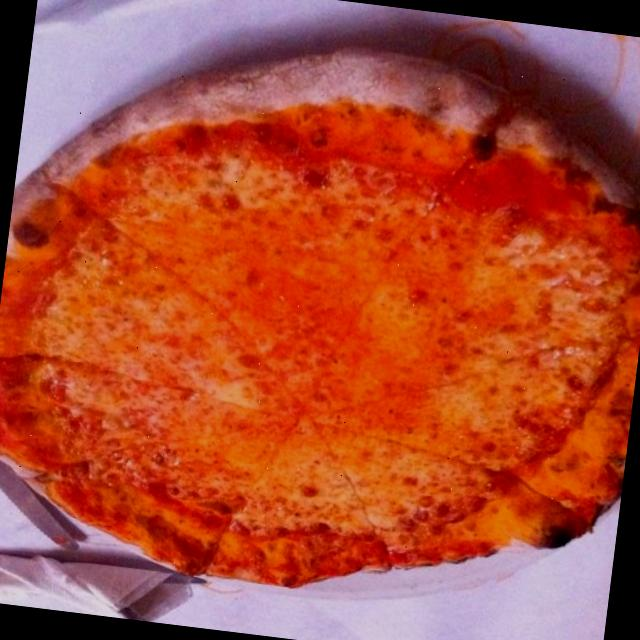pizza: (0, 50, 640, 587)
